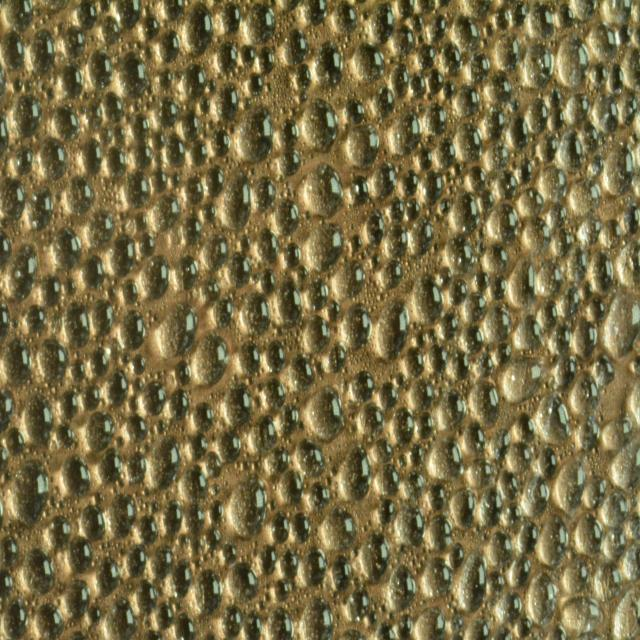dr: (11, 458, 50, 528), (602, 291, 640, 359), (156, 301, 198, 359), (229, 475, 267, 538), (302, 163, 344, 219), (306, 386, 346, 442), (237, 105, 274, 165), (376, 300, 410, 362), (338, 442, 372, 503), (502, 356, 544, 405), (306, 220, 344, 272), (220, 171, 253, 230), (148, 434, 182, 491), (301, 98, 339, 149), (458, 549, 488, 612), (557, 35, 591, 90), (536, 392, 571, 445), (182, 2, 215, 57), (21, 546, 57, 596), (194, 334, 228, 386), (561, 594, 605, 634), (320, 505, 358, 551), (426, 436, 464, 482), (555, 459, 586, 515), (609, 436, 640, 492), (412, 271, 444, 325), (537, 515, 569, 569), (507, 255, 538, 310), (528, 571, 558, 627), (346, 123, 381, 170), (360, 530, 391, 583), (8, 243, 37, 299), (387, 110, 422, 156), (604, 142, 633, 197), (2, 336, 33, 387), (469, 377, 500, 428), (103, 595, 138, 640), (612, 584, 640, 640), (24, 393, 54, 445), (60, 451, 92, 499), (118, 51, 150, 99), (300, 595, 334, 640), (332, 258, 368, 300), (240, 290, 271, 338), (314, 40, 344, 89), (524, 41, 554, 90), (388, 562, 417, 612), (51, 226, 83, 271), (108, 492, 138, 540), (342, 303, 372, 351), (450, 190, 481, 236), (573, 511, 603, 558), (570, 370, 600, 417), (394, 504, 426, 548), (422, 556, 454, 600), (352, 42, 386, 83), (194, 568, 223, 616), (39, 338, 69, 384), (140, 254, 170, 300), (223, 381, 252, 428), (276, 276, 302, 328), (38, 137, 68, 182), (178, 462, 210, 504), (85, 410, 116, 453), (13, 94, 43, 138), (593, 559, 623, 603), (227, 561, 259, 602), (150, 192, 182, 233), (295, 436, 326, 478), (444, 234, 475, 276), (245, 2, 276, 44), (570, 177, 602, 217), (438, 387, 467, 431), (29, 28, 56, 75), (64, 301, 91, 348), (26, 186, 54, 231), (449, 488, 477, 533), (522, 473, 550, 518), (588, 21, 618, 63), (487, 204, 519, 243), (249, 412, 278, 455), (0, 176, 27, 222), (602, 416, 636, 452), (110, 233, 136, 280), (66, 174, 95, 216), (538, 165, 567, 207), (454, 122, 483, 164), (119, 308, 147, 351), (483, 303, 512, 344), (34, 602, 65, 640), (93, 556, 121, 598), (513, 313, 543, 352), (558, 129, 584, 174), (301, 546, 328, 589), (369, 2, 396, 45), (87, 209, 115, 250), (0, 29, 27, 71), (414, 606, 447, 640), (202, 233, 230, 273), (592, 93, 619, 134), (302, 316, 331, 354), (88, 48, 114, 90), (124, 170, 151, 210), (573, 319, 598, 362), (524, 216, 553, 253), (536, 258, 562, 299), (495, 32, 521, 73), (562, 558, 590, 596), (590, 248, 612, 296), (67, 535, 94, 574), (453, 13, 480, 52), (4, 598, 29, 640), (479, 486, 504, 528), (410, 215, 435, 257), (52, 104, 81, 140), (64, 578, 90, 618), (358, 402, 386, 439), (601, 491, 629, 528), (80, 504, 107, 542), (345, 585, 371, 624), (290, 353, 316, 392), (392, 405, 416, 447), (488, 528, 513, 568), (371, 161, 397, 199), (266, 606, 295, 640), (348, 369, 376, 404), (495, 590, 523, 625), (283, 28, 308, 67), (529, 3, 555, 40), (4, 0, 34, 32), (331, 1, 359, 35), (237, 340, 262, 378), (279, 468, 304, 506), (182, 62, 207, 100), (80, 254, 106, 290), (410, 377, 436, 413), (262, 445, 291, 477), (142, 380, 167, 417), (227, 251, 252, 288), (582, 474, 607, 511), (602, 526, 627, 563), (484, 72, 512, 105), (374, 463, 401, 497), (59, 62, 83, 100), (174, 254, 198, 292), (275, 198, 299, 236), (261, 378, 287, 413), (454, 83, 480, 118), (216, 82, 238, 123), (217, 428, 242, 464), (255, 228, 280, 264), (577, 414, 600, 453), (98, 449, 122, 486), (428, 514, 452, 551), (331, 552, 353, 592), (484, 242, 509, 277), (106, 368, 129, 406), (48, 513, 71, 551), (466, 457, 494, 488), (462, 420, 486, 456), (508, 553, 532, 589), (91, 299, 115, 335), (170, 559, 192, 598), (422, 168, 444, 207), (150, 544, 175, 578), (134, 580, 158, 615), (488, 427, 512, 462), (365, 207, 385, 249), (114, 0, 142, 30), (81, 138, 103, 176), (518, 188, 544, 220), (0, 388, 16, 440), (306, 276, 329, 312), (483, 106, 506, 142), (391, 24, 416, 57), (565, 92, 590, 125), (578, 212, 602, 246), (162, 499, 184, 536), (386, 223, 408, 260), (528, 99, 550, 136), (378, 258, 403, 290), (509, 114, 529, 154), (492, 170, 517, 202), (254, 176, 276, 212), (39, 272, 62, 306), (497, 468, 520, 502), (554, 354, 577, 388), (372, 84, 395, 118), (424, 102, 447, 136), (216, 41, 238, 76), (440, 41, 462, 76), (463, 290, 487, 322), (568, 245, 588, 283), (158, 30, 181, 63), (560, 284, 581, 320), (63, 24, 85, 58), (221, 605, 243, 639), (183, 502, 205, 536), (126, 451, 148, 485), (126, 412, 148, 446), (325, 341, 347, 375), (212, 294, 234, 328), (550, 321, 572, 355), (106, 145, 128, 179), (277, 402, 300, 434), (403, 469, 426, 501), (270, 510, 291, 545), (518, 520, 539, 555), (302, 0, 328, 28), (485, 143, 511, 171), (168, 388, 190, 421), (462, 615, 491, 640), (622, 542, 640, 582), (595, 352, 615, 388), (460, 324, 484, 354), (182, 212, 203, 246), (165, 133, 186, 167), (221, 1, 242, 35), (156, 98, 179, 129), (126, 544, 148, 576), (308, 480, 330, 512), (514, 412, 536, 444), (103, 91, 125, 123), (468, 51, 490, 83), (278, 148, 302, 177), (59, 388, 80, 421), (0, 534, 19, 570), (13, 144, 35, 175), (200, 273, 222, 304), (76, 0, 98, 31), (291, 511, 311, 545), (538, 446, 558, 480), (436, 136, 456, 170), (428, 343, 449, 375), (601, 218, 622, 250), (174, 611, 197, 640), (390, 63, 409, 98), (24, 304, 46, 334), (257, 544, 277, 577), (277, 118, 299, 148), (405, 346, 425, 378), (539, 133, 559, 165), (193, 402, 214, 432), (378, 381, 399, 411), (210, 128, 231, 158), (266, 339, 285, 372), (452, 348, 471, 381), (571, 0, 598, 23), (184, 175, 204, 206), (343, 98, 365, 126), (206, 164, 224, 198), (581, 121, 599, 155), (132, 140, 153, 169), (280, 548, 299, 580), (85, 99, 104, 131), (622, 90, 638, 128), (90, 348, 110, 378), (138, 514, 158, 544), (188, 432, 208, 462), (244, 609, 263, 640), (350, 175, 369, 206), (154, 602, 175, 630), (428, 14, 448, 43), (474, 351, 494, 380), (6, 426, 24, 458), (428, 481, 446, 513), (622, 204, 640, 236), (370, 437, 393, 462), (56, 420, 75, 450), (81, 383, 101, 411), (448, 278, 468, 306), (174, 358, 192, 389), (416, 410, 434, 441), (182, 110, 200, 141), (101, 15, 119, 46), (539, 300, 558, 329), (554, 228, 573, 257), (189, 138, 208, 167), (417, 42, 436, 71), (131, 113, 150, 141), (468, 164, 487, 192), (388, 195, 406, 224), (486, 570, 506, 596), (488, 275, 508, 301), (608, 63, 624, 95), (162, 0, 185, 22), (408, 72, 426, 100), (510, 0, 528, 28), (503, 502, 522, 528), (396, 613, 414, 640), (246, 71, 264, 98), (206, 451, 223, 479), (441, 313, 458, 341), (258, 46, 275, 74), (401, 169, 418, 197), (557, 2, 574, 30), (295, 64, 313, 90), (142, 15, 160, 41), (150, 168, 168, 194), (547, 108, 565, 134), (591, 63, 609, 89), (427, 68, 444, 95), (494, 5, 510, 32), (208, 498, 224, 524), (284, 242, 300, 268), (260, 268, 276, 294), (139, 232, 155, 258), (221, 540, 238, 564), (122, 279, 138, 304), (418, 146, 434, 171), (589, 297, 606, 320), (410, 442, 425, 468), (69, 358, 85, 382), (274, 578, 290, 602), (517, 615, 533, 639), (241, 44, 256, 69), (158, 67, 174, 90), (518, 158, 532, 184), (205, 528, 223, 548), (406, 198, 421, 222), (396, 0, 416, 17), (475, 270, 491, 291), (590, 152, 604, 176), (132, 353, 146, 376), (548, 86, 562, 109), (202, 202, 217, 223), (108, 338, 122, 360), (450, 612, 464, 634), (100, 124, 114, 145), (619, 24, 632, 46), (152, 130, 166, 150), (135, 211, 148, 232), (350, 233, 364, 252), (440, 266, 452, 288), (113, 124, 126, 144), (63, 277, 76, 297), (411, 12, 424, 31), (199, 94, 210, 114), (443, 79, 454, 99), (128, 394, 139, 412), (440, 198, 451, 215), (170, 170, 180, 188), (99, 0, 111, 14), (12, 77, 22, 93)
